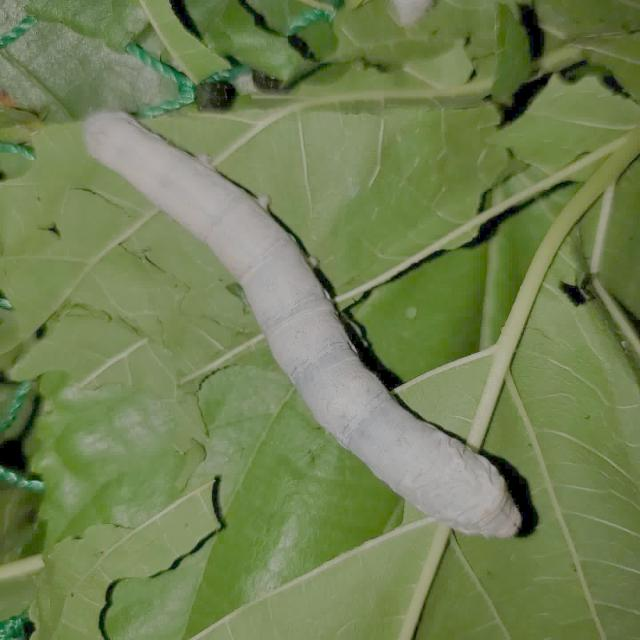Healthy: (64, 89, 534, 559)
